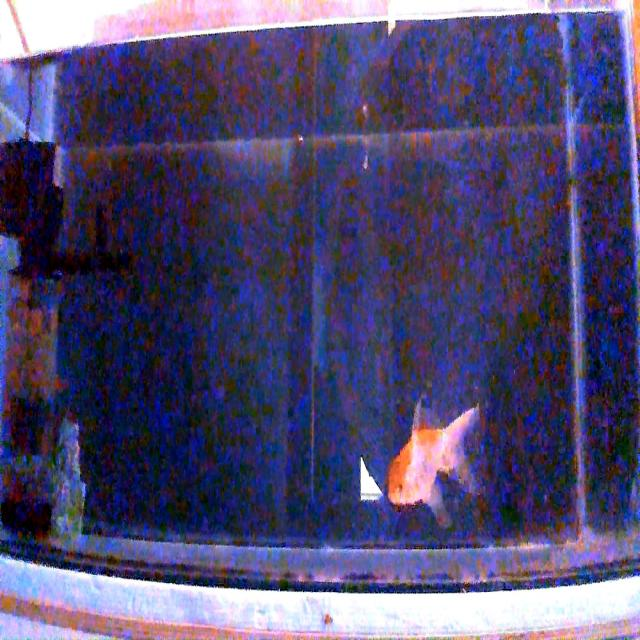fish: (381, 398, 483, 514)
